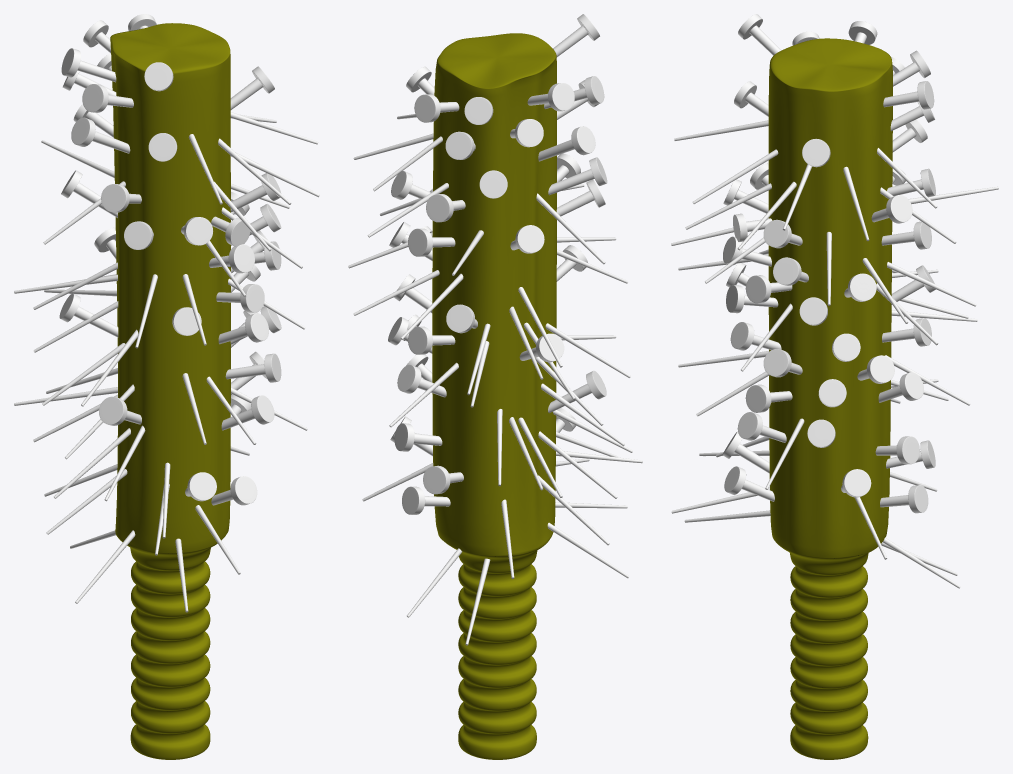
File: bat.fbx
The picture shows the model from 3 angles, left to right: view 1: azimuth 30°, elevation 25°; view 2: azimuth 150°, elevation 25°; view 3: azimuth 270°, elevation 25°; orthographic projection. The views are drawn at different scales.
Visible parts, largest first — view 1: bat; view 2: bat; view 3: bat.
Part boxes in pixels (box(x1,y1,x2,y2)): bat: box(14, 14, 319, 759); bat: box(348, 14, 642, 759); bat: box(671, 14, 998, 759).
Size of the model in its own units: 137 by 387 by 163.
